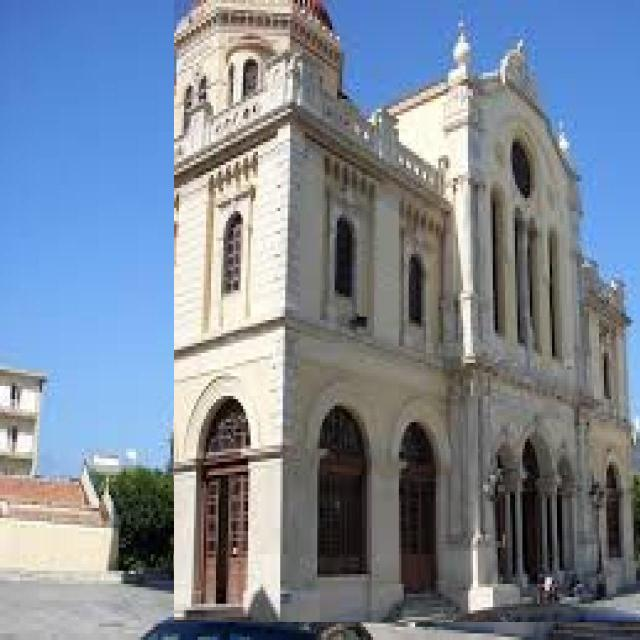Agios Minas: (175, 1, 640, 623)
